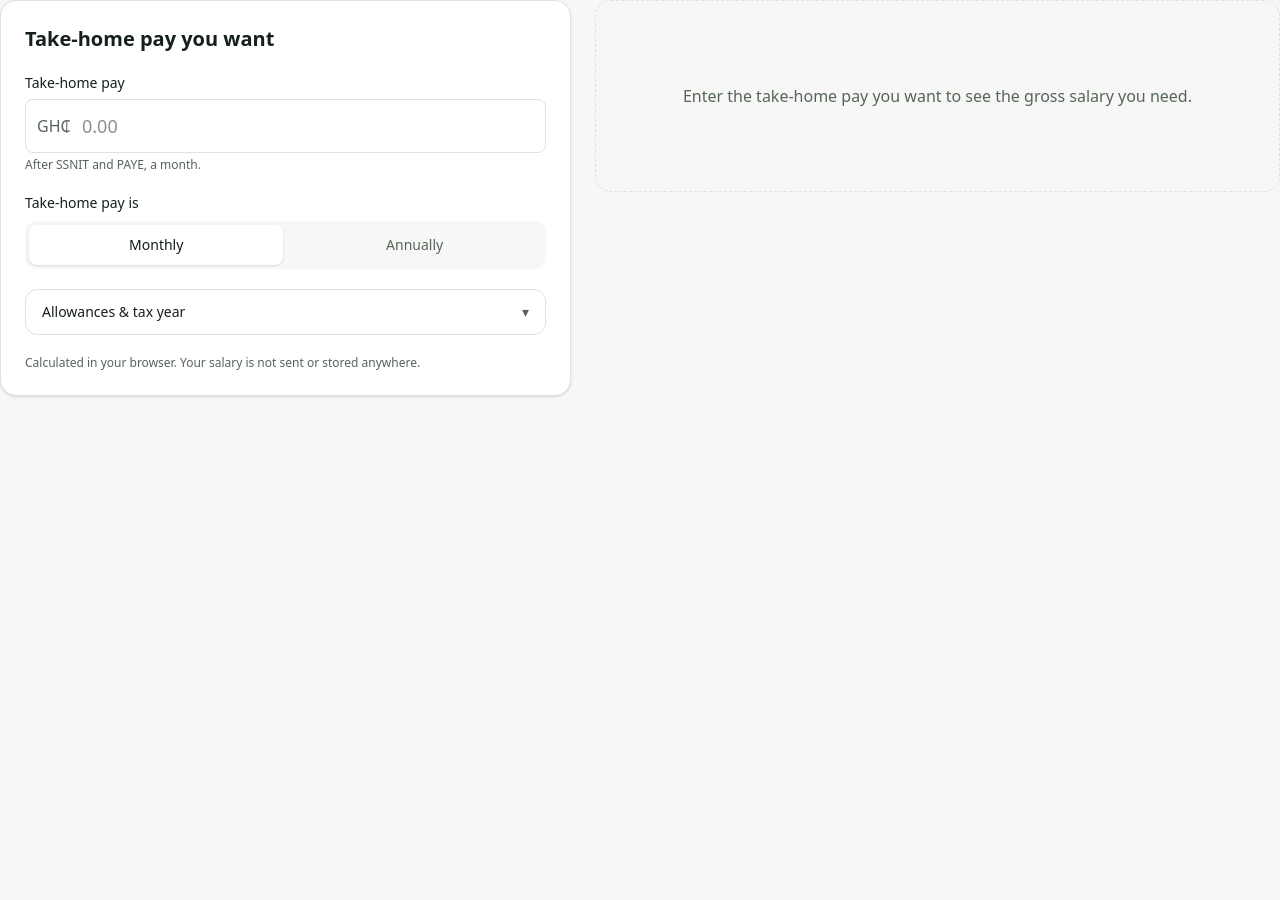
Test: NetToGrossCalculator › shows the basic salary needed and the full breakdown
Expected: the text "Enter the take-home pay you want" is shown, [683,85,1192,107]
Type "3,945.25" into the field labelled "Take-home pay" at (285, 126), box [25,99,546,153]
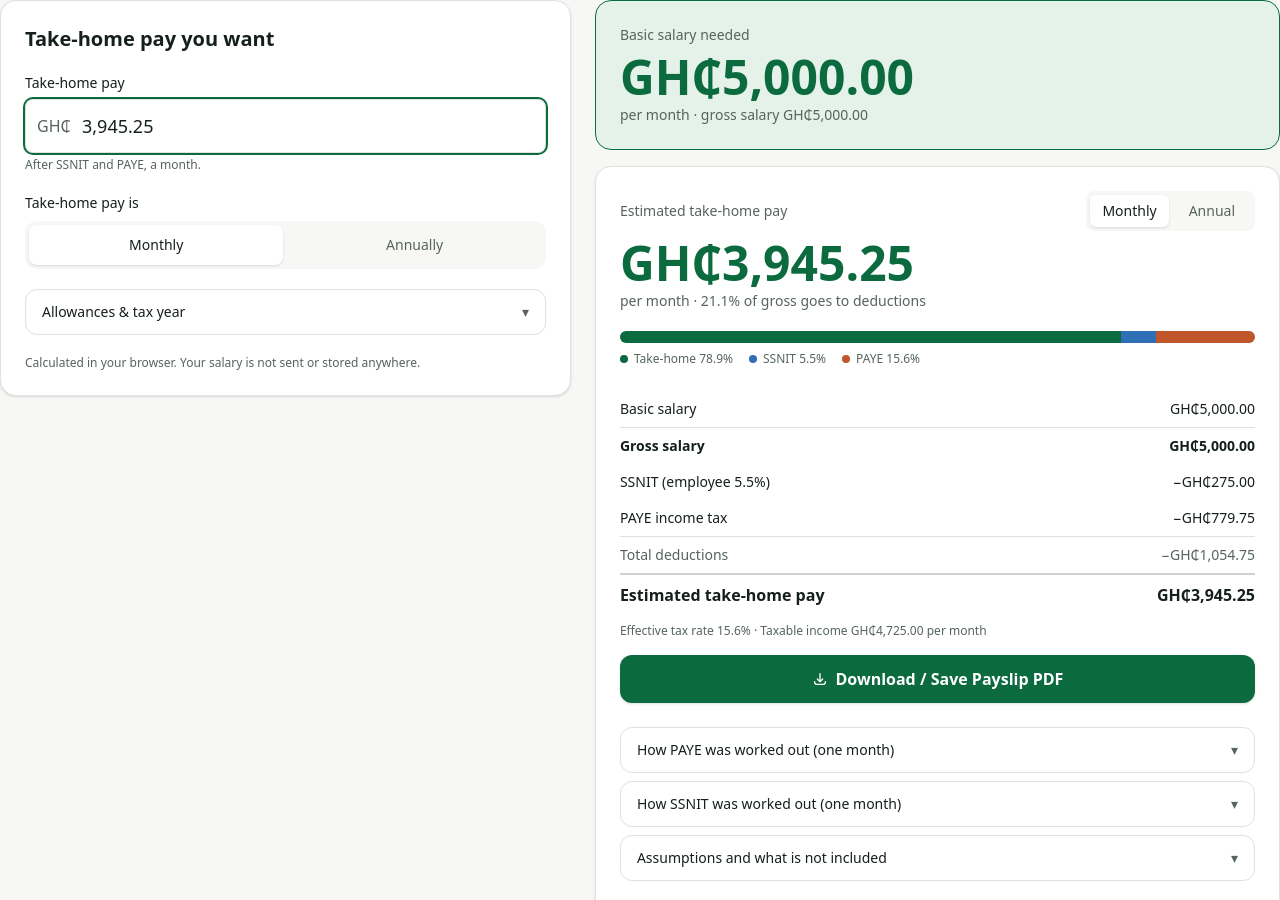
Now the text with test id "required-basic" reads "GH₵5,000.00", box [620,44,914,109]
Now the text with test id "net-pay" reads "GH₵3,945.25", box [620,230,914,295]
Click the button "Annual" at (1212, 211), box [1173,195,1251,227]
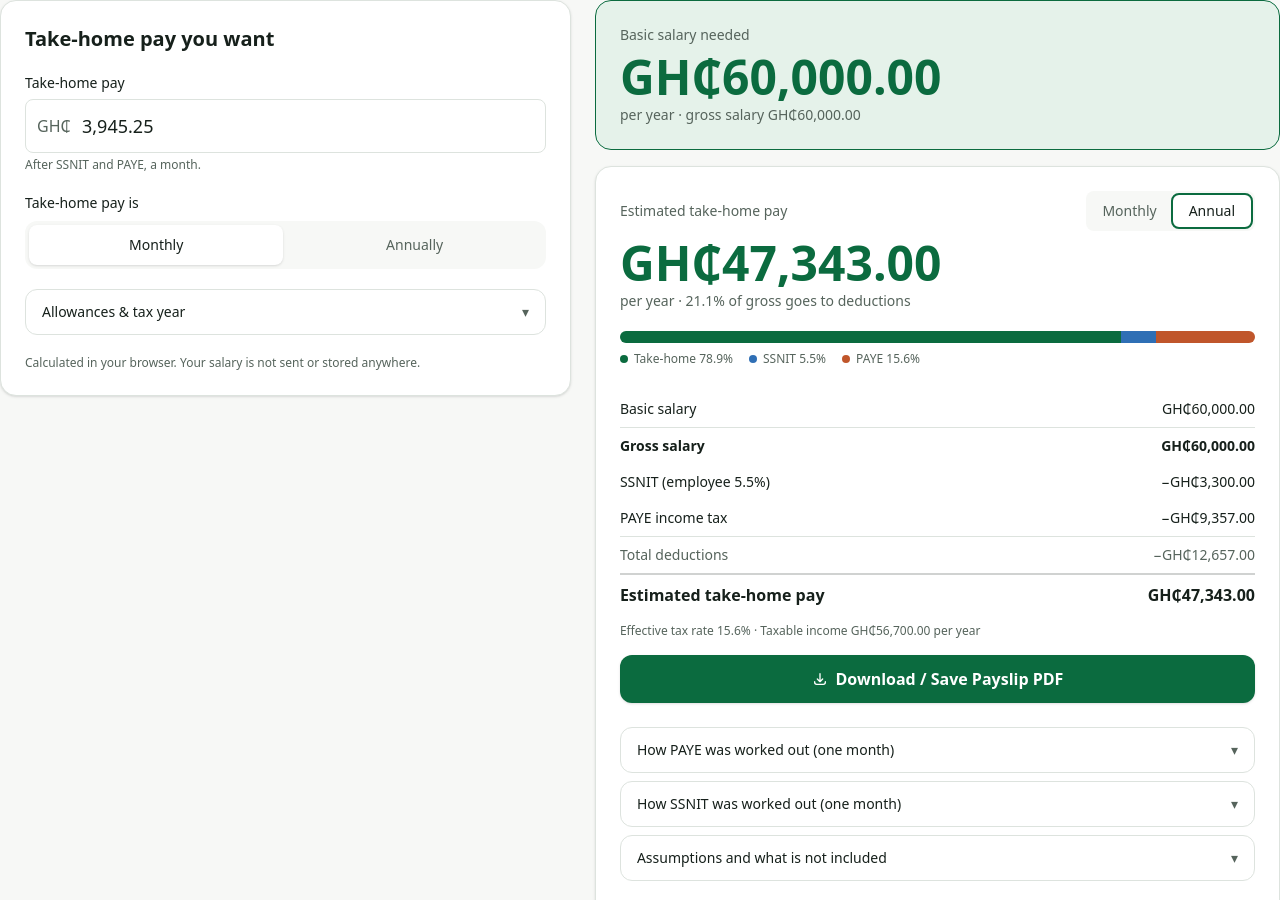
Now the text with test id "required-basic" reads "GH₵60,000.00", box [620,44,942,109]
